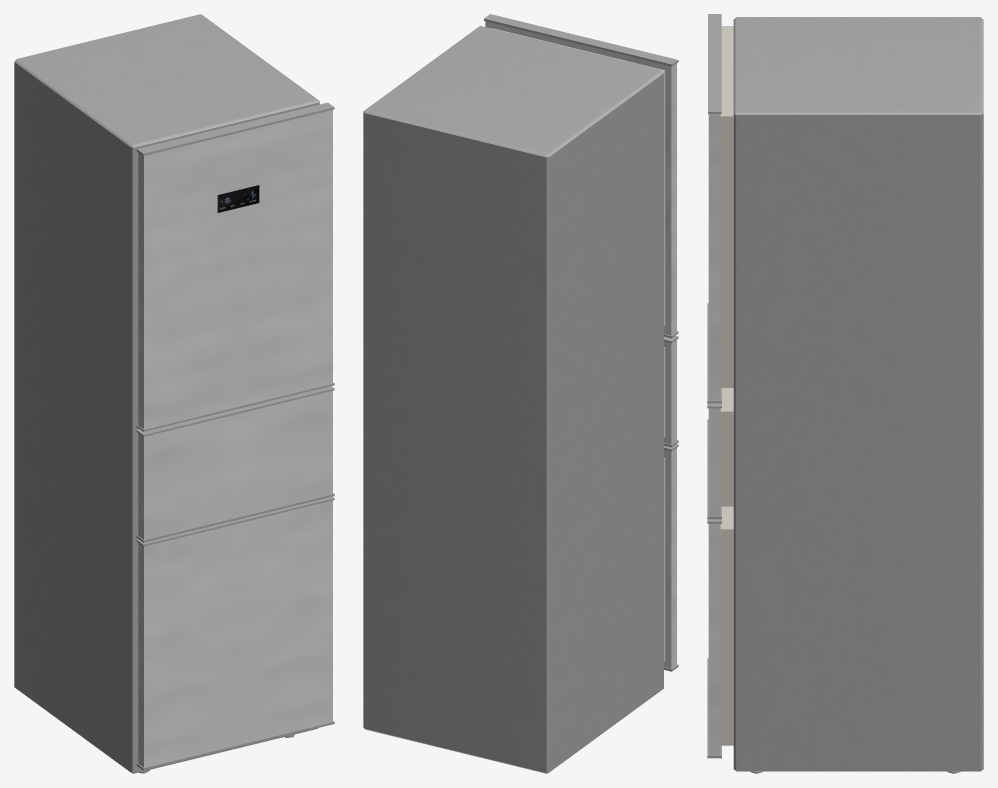
The model's file is refrigerator002.dae.
The picture shows the model from 3 angles, left to right: view 1: azimuth 30°, elevation 25°; view 2: azimuth 150°, elevation 25°; view 3: azimuth 270°, elevation 25°; orthographic projection. The views are drawn at different scales.
Parts seen in each view (by area): view 1: refrigerator002_part04, refrigerator002_part02, refrigerator002_part03; view 2: refrigerator002_part02, refrigerator002_part04, refrigerator002_part01; view 3: refrigerator002_part02, refrigerator002_part01, refrigerator002_part04.
Boxes of the visible parts, <box> form: refrigerator002_part04: <box>138,110,332,767</box>; refrigerator002_part02: <box>14,14,334,773</box>; refrigerator002_part03: <box>217,185,259,212</box>; refrigerator002_part02: <box>363,14,678,773</box>; refrigerator002_part04: <box>485,21,676,668</box>; refrigerator002_part01: <box>491,28,665,661</box>; refrigerator002_part02: <box>707,14,983,773</box>; refrigerator002_part01: <box>720,26,733,745</box>; refrigerator002_part04: <box>708,114,720,755</box>.
Bounding box in the file's own units: 0.556 × 1.78 × 0.663.
4 materials, 4 textured.
